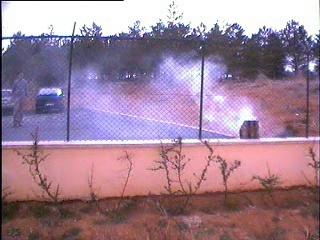smoke: (155, 49, 257, 140)
